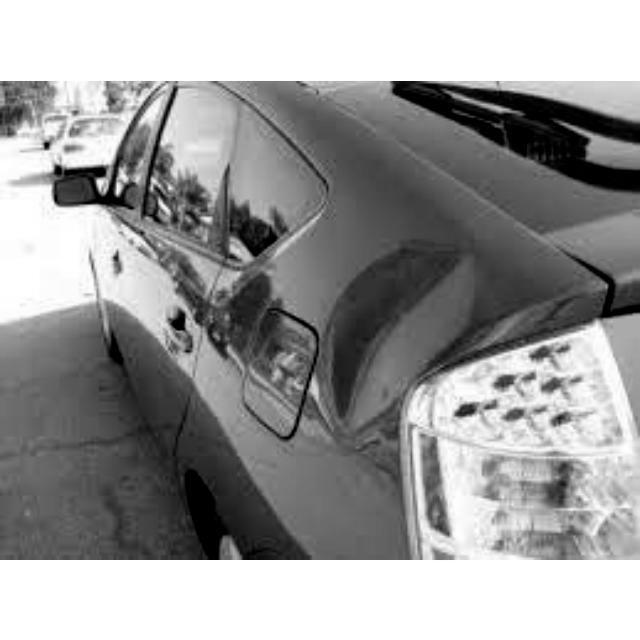quaterpanel-dent: (253, 236, 490, 441)
